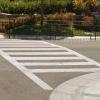Crosswalk: (0, 33, 89, 93)
